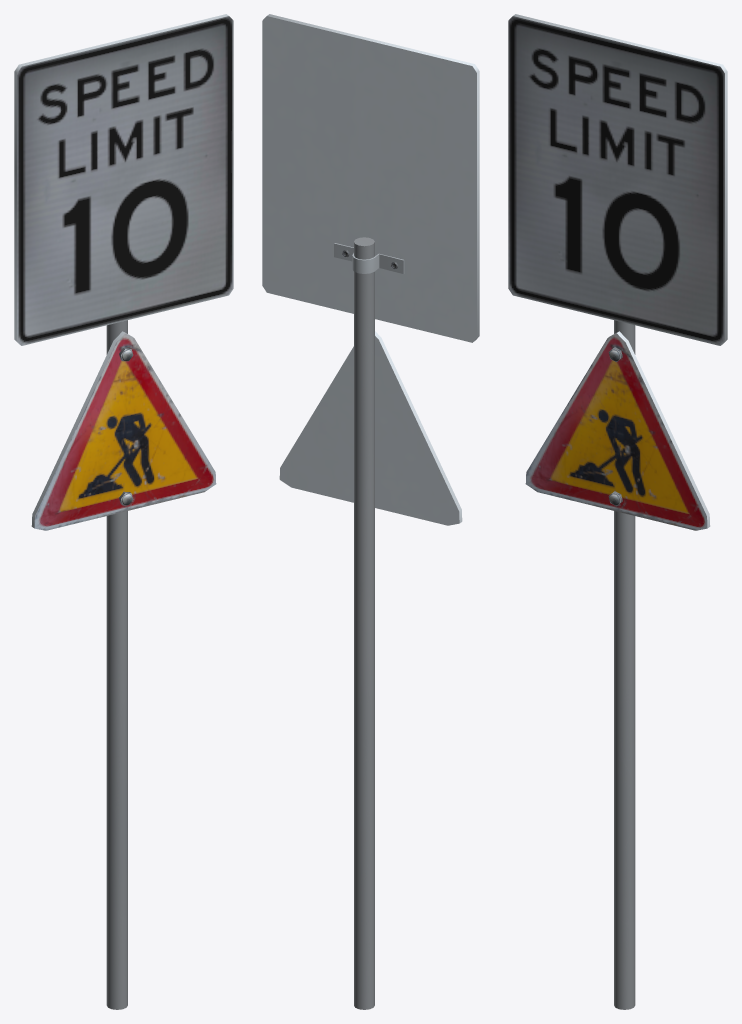
Rendered from StreetSigns_4.fbx.
The picture shows the model from 3 angles, left to right: view 1: azimuth 30°, elevation 25°; view 2: azimuth 150°, elevation 25°; view 3: azimuth 330°, elevation 25°; orthographic projection.
Visible parts, largest first — view 1: StreetSigns_4; view 2: StreetSigns_4; view 3: StreetSigns_4.
Part boxes in pixels (x1,y1,x2,y2): StreetSigns_4: [14, 14, 233, 1009]; StreetSigns_4: [262, 14, 479, 1009]; StreetSigns_4: [508, 14, 727, 1009].
Bounding box in the file's own units: 1.18 × 5.03 × 0.1568.
